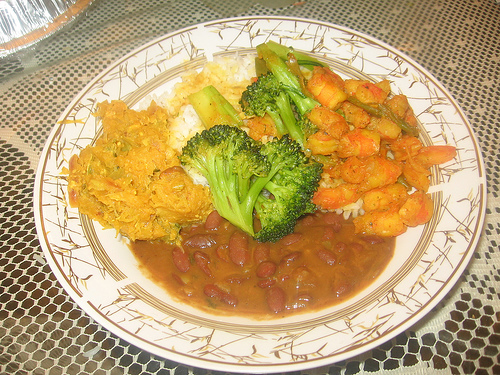broccoli: (176, 124, 325, 244), (239, 71, 309, 141)
